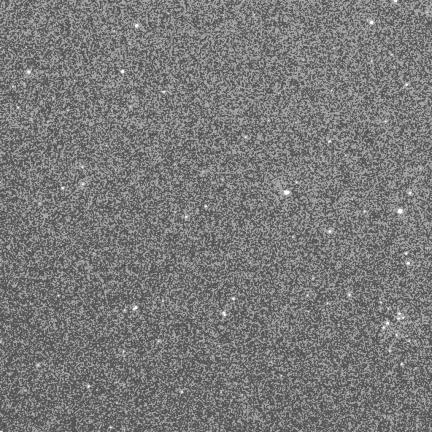blob: (222, 311, 226, 316), (157, 339, 162, 343), (27, 70, 31, 75), (284, 191, 290, 194), (87, 385, 91, 389), (398, 209, 402, 213), (133, 306, 137, 310), (135, 24, 139, 28), (328, 140, 332, 144), (180, 391, 184, 394), (405, 84, 409, 87), (387, 322, 390, 326), (232, 297, 235, 301), (398, 313, 402, 316), (405, 252, 408, 256), (397, 317, 400, 321), (205, 205, 208, 209), (327, 302, 330, 305), (62, 187, 65, 190), (82, 183, 85, 186), (407, 262, 410, 265), (306, 294, 309, 297), (380, 302, 383, 305), (121, 70, 124, 73), (383, 327, 386, 330), (385, 121, 388, 124), (370, 21, 373, 24), (349, 293, 351, 297), (401, 363, 403, 366), (296, 181, 298, 184)
